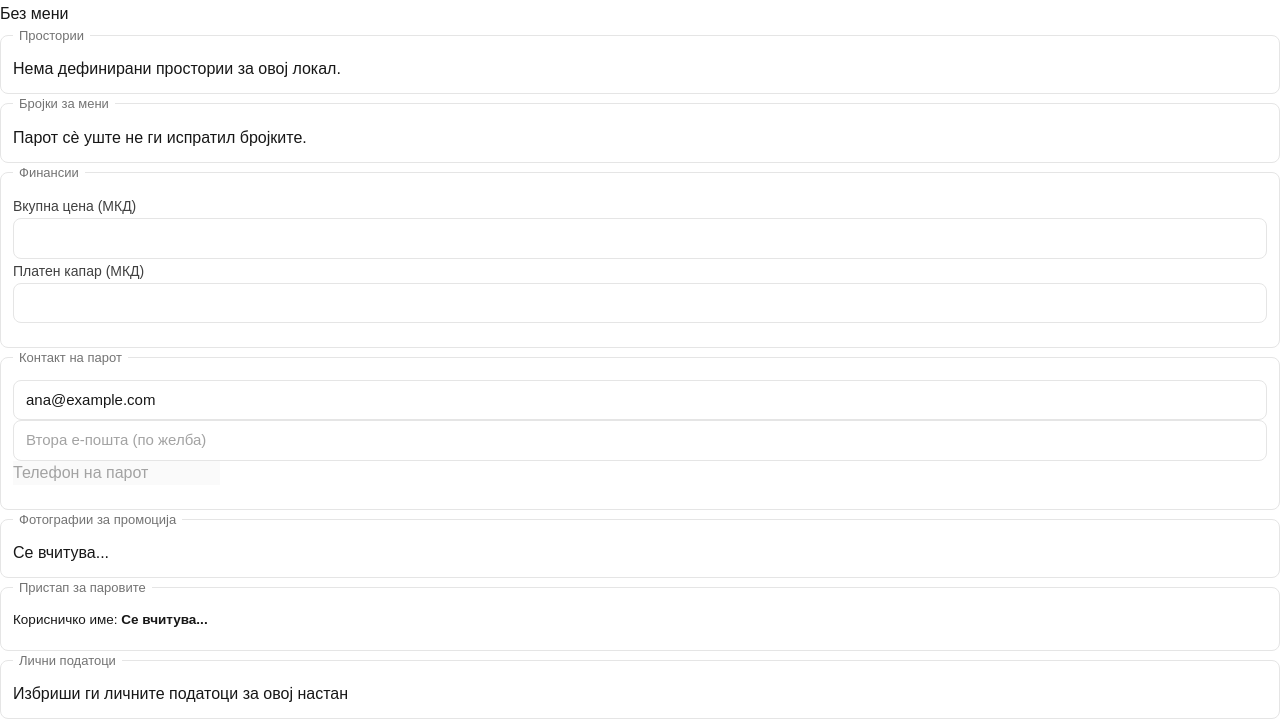
Test case: Event form: erase personal data (DATA-006) › is available on read-only (past) events for an elevated manager, and gated by the couple's names
(page scrolled)
Step 1. Click the button "Избриши ги личните податоци за овој настан" → x=181, y=694, box [13, 682, 348, 706]
(page scrolled)
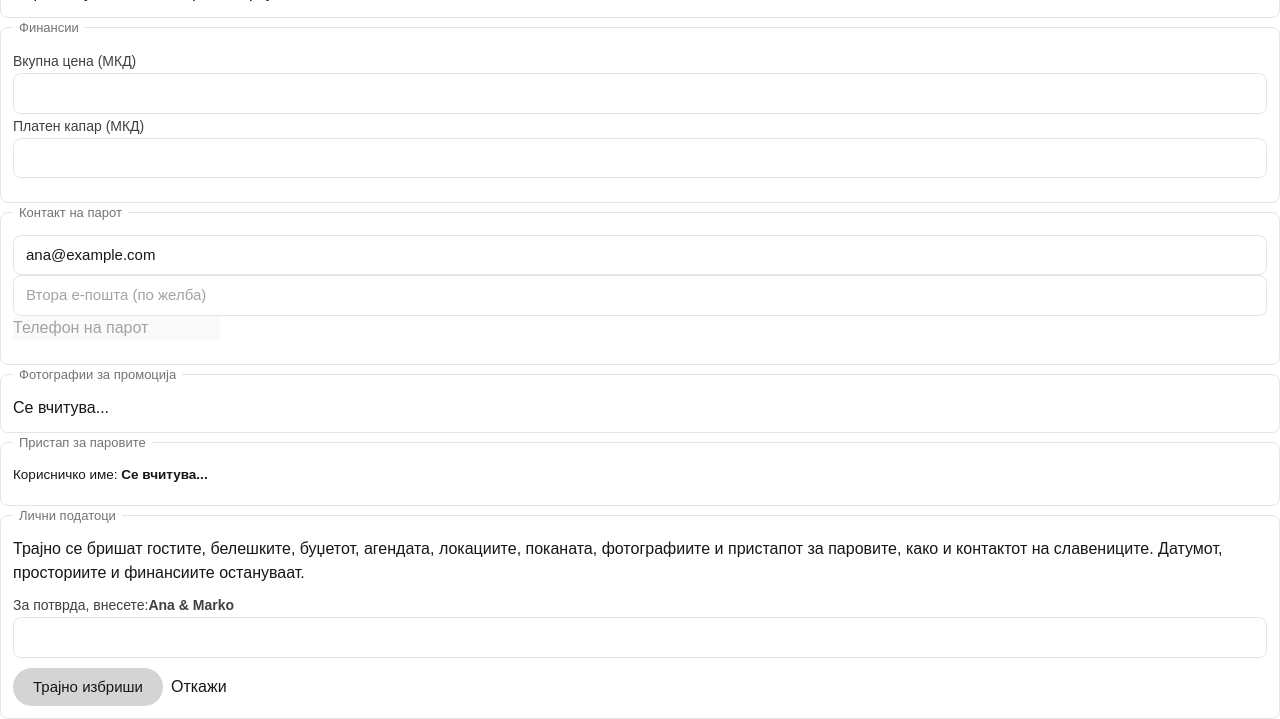
Expected: the button "Трајно избриши" is disabled, [13, 668, 163, 706]
Step 2. Type "Ana" into the field labelled "За потврда, внесете: Ana & Marko" → x=640, y=638, box [13, 617, 1267, 658]
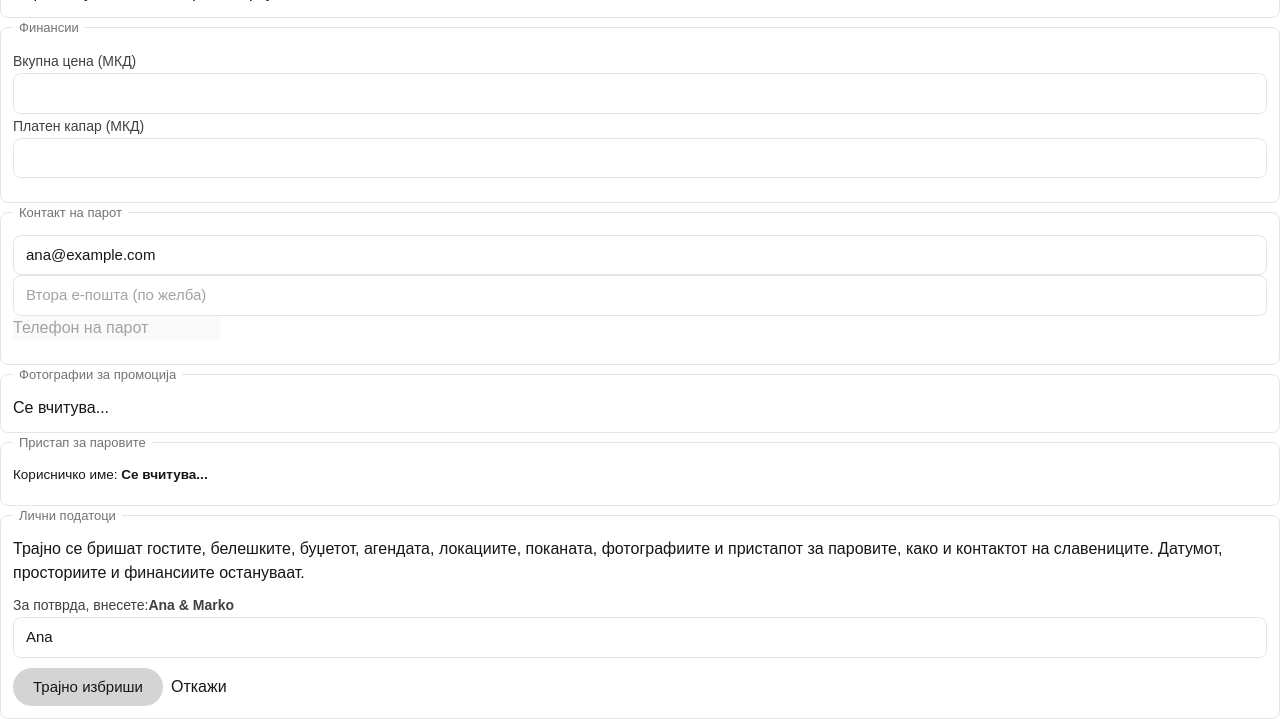
Expected: the button "Трајно избриши" is disabled, [13, 668, 163, 706]
Step 3. Replace the text in the field labelled "За потврда, внесете: Ana & Marko" with "Ana & Marko" → x=640, y=638, box [13, 617, 1267, 658]
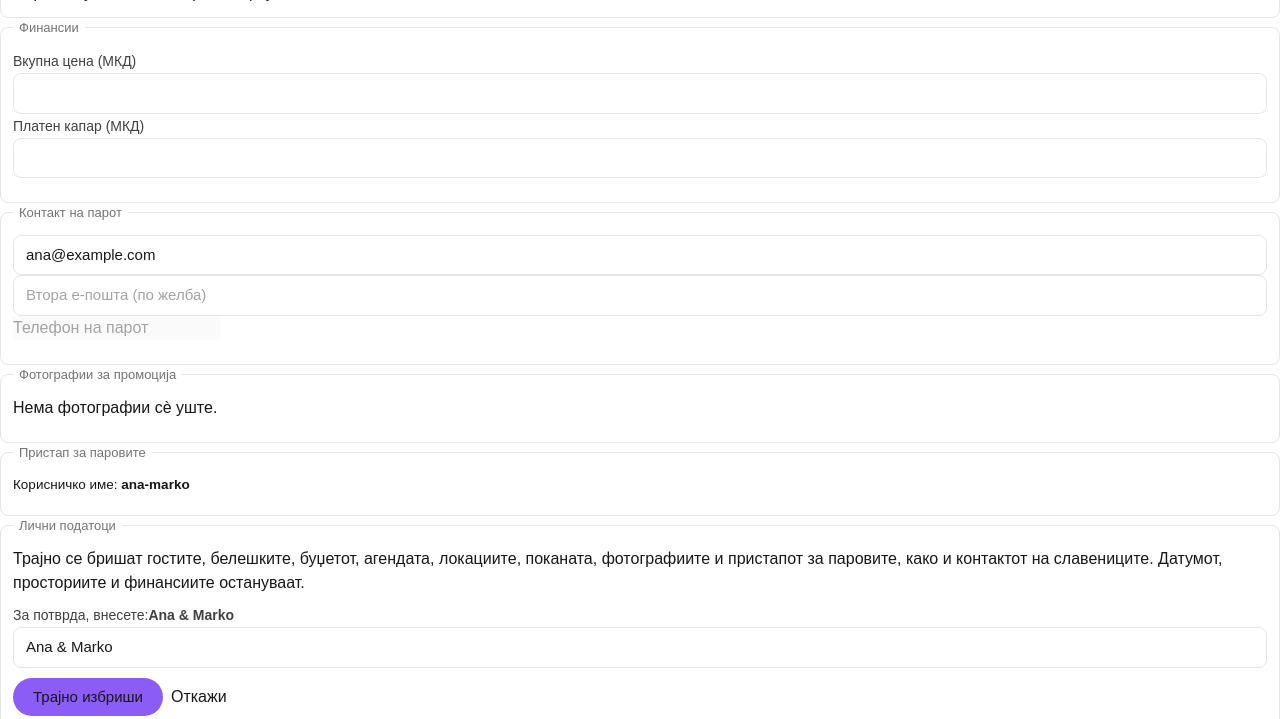
Expected: the button "Трајно избриши" is enabled, [13, 678, 163, 716]
